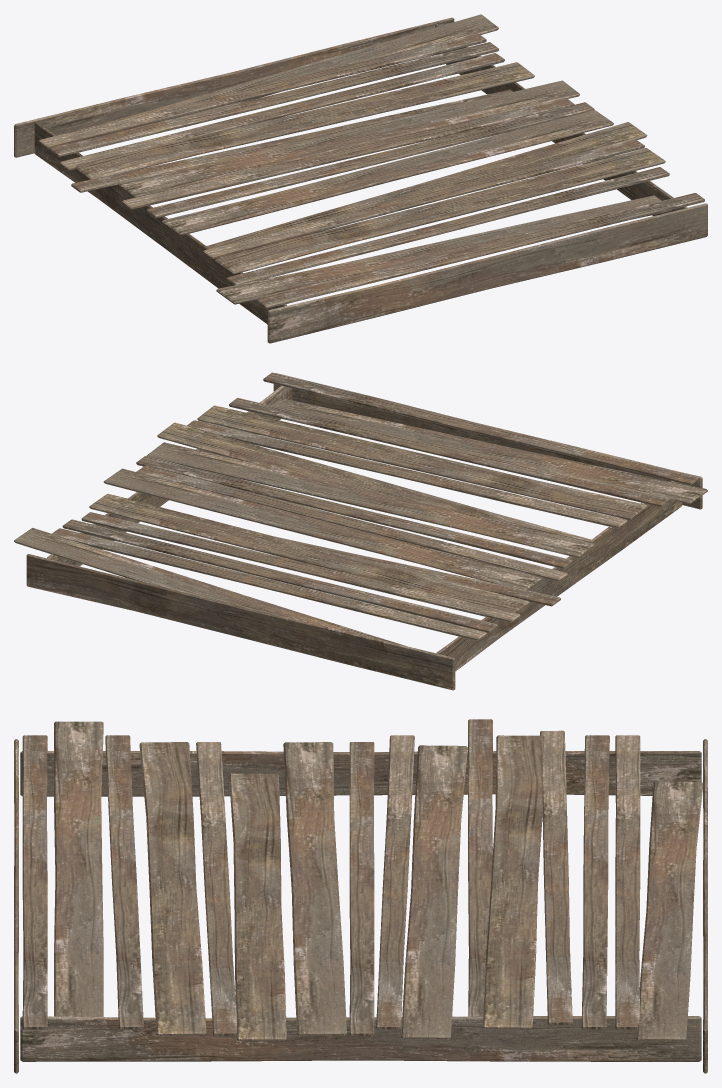
Rendered from SM_Gangway_03.fbx.
3 renders of one model, top to bottom at view 1: azimuth 30°, elevation 25°; view 2: azimuth 150°, elevation 25°; view 3: azimuth 270°, elevation 25°, orthographic. The views are drawn at different scales.
Parts seen in each view (by area): view 1: SM_Gangway_03_LOD0; view 2: SM_Gangway_03_LOD0; view 3: SM_Gangway_03_LOD0.
Part boxes in pixels (left/top/right/bottom): SM_Gangway_03_LOD0: left=14, top=14, right=707, bottom=343; SM_Gangway_03_LOD0: left=14, top=372, right=707, bottom=690; SM_Gangway_03_LOD0: left=14, top=719, right=707, bottom=1073.
Size of the model in its own units: 439 by 403 by 32.49.
Materials: 2 (2 with a texture image).
